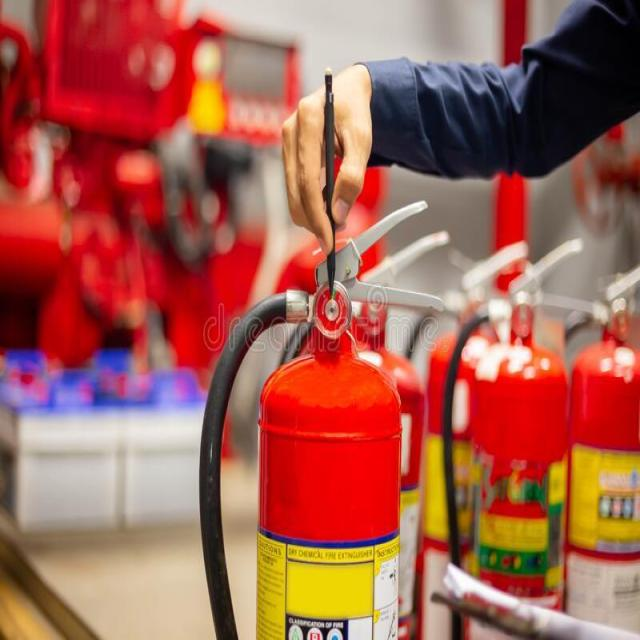fire_extinguisher: (186, 196, 447, 639), (438, 230, 598, 639), (553, 259, 639, 639)
